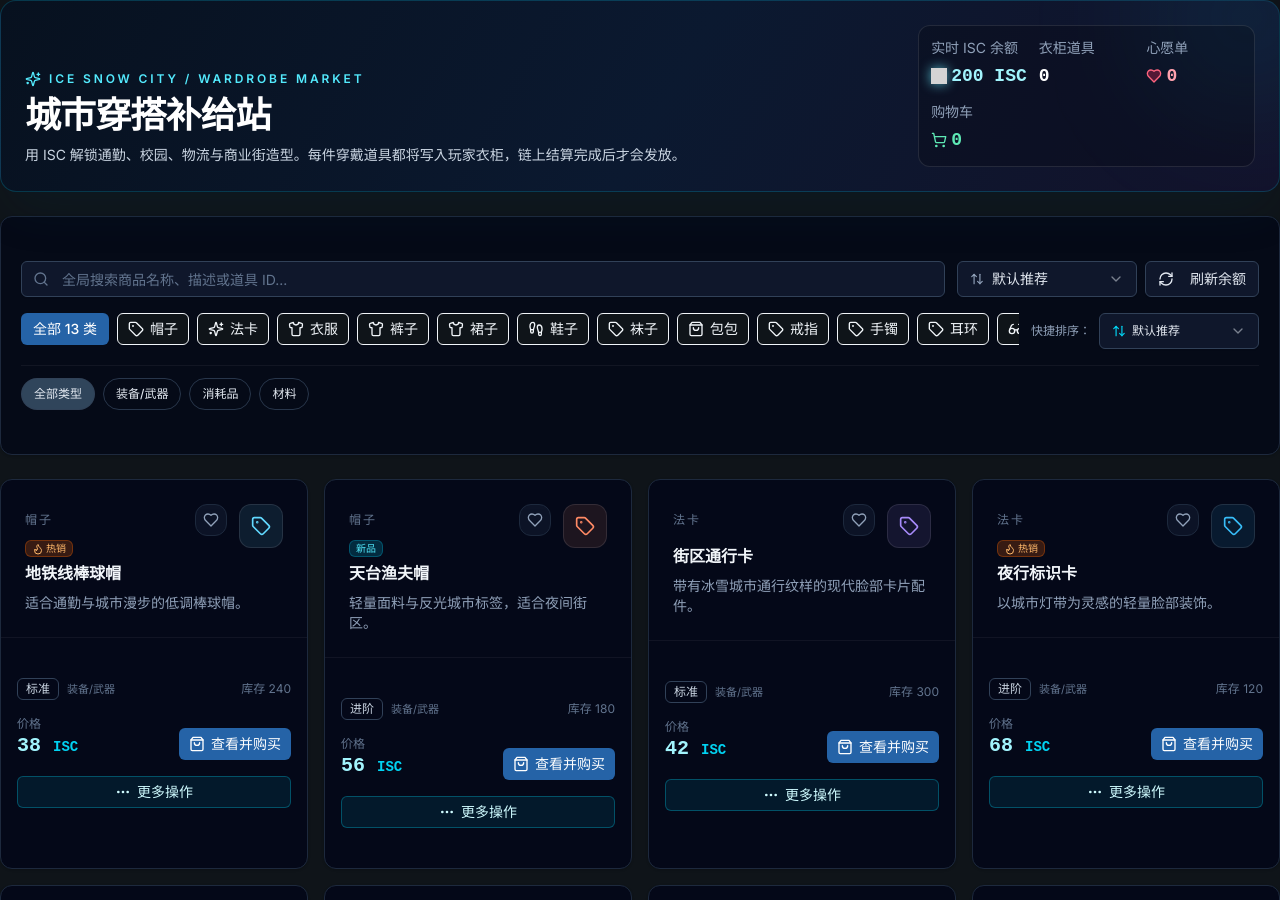
Test: GameItemShop › toggles wishlist favorite status with heart button and persists count
Expected: the text "心愿单" is shown, [1146,39,1188,56]
Click the button named "加入收藏：地铁线棒球帽": [211, 520] box [195,504,227,536]
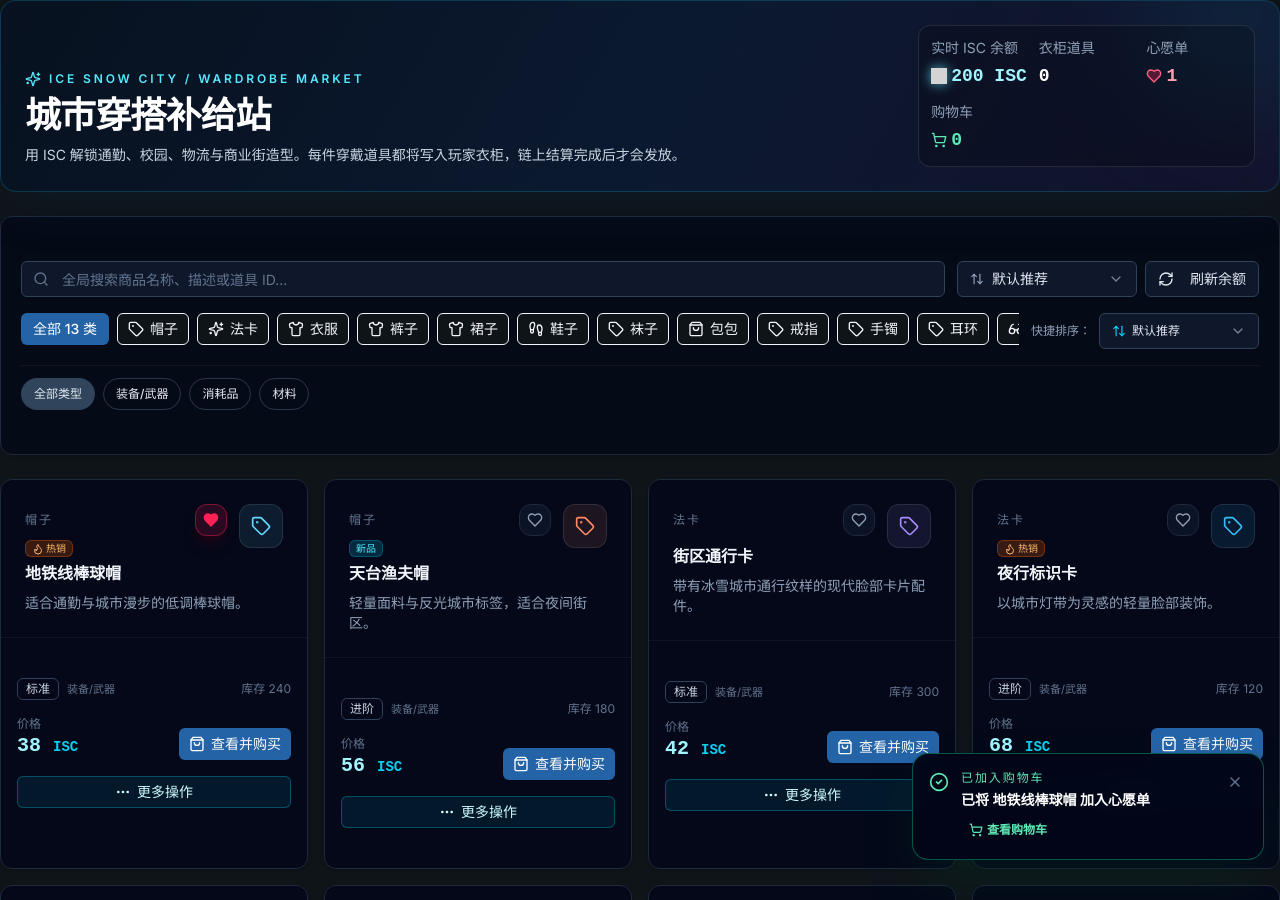
Now the text "已将 地铁线棒球帽 加入心愿单" is shown, box [961,791,1150,808]
Now the button named "取消收藏：地铁线棒球帽" is shown
Click the button named "取消收藏：地铁线棒球帽": [211, 520] box [195,504,227,536]
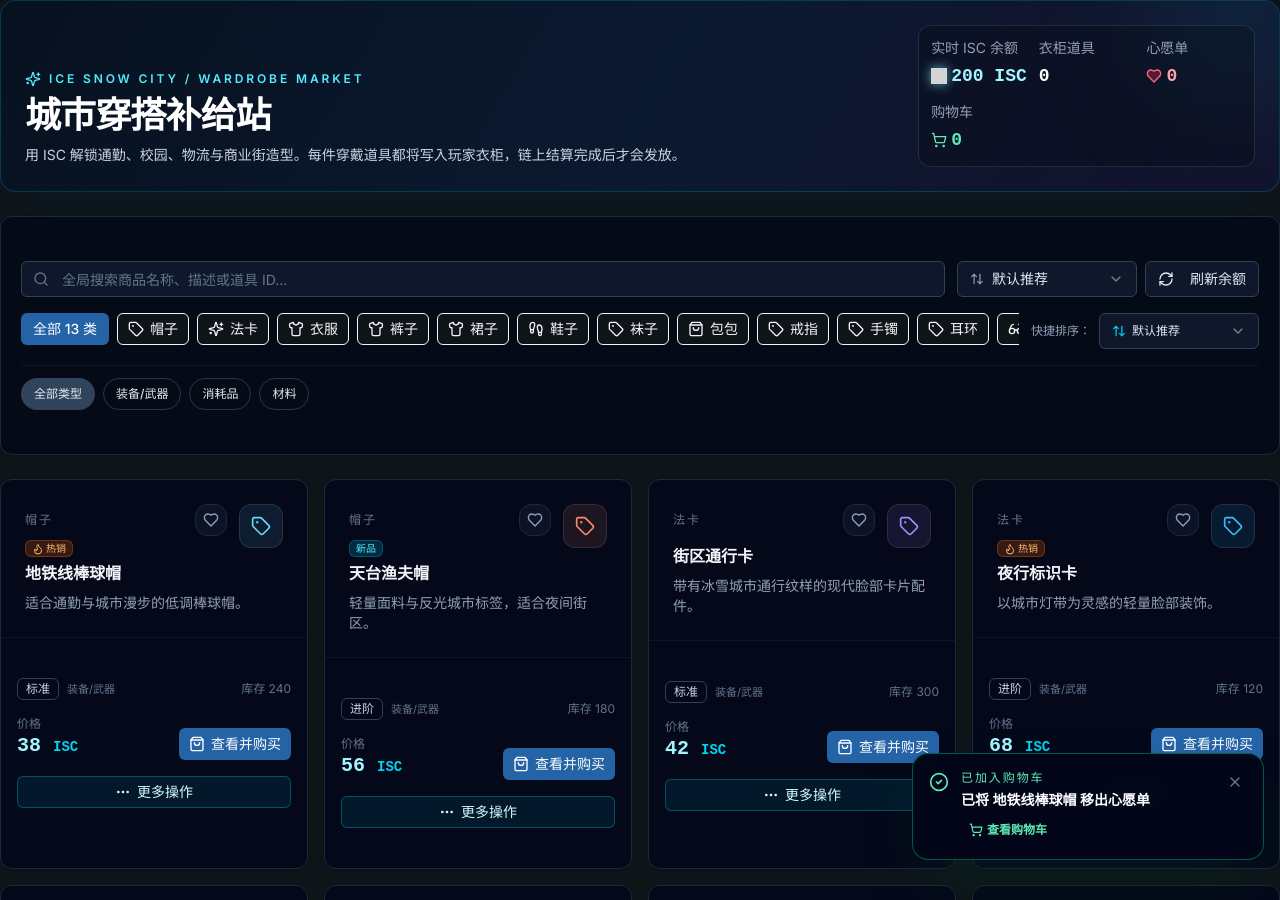
Now the text "已将 地铁线棒球帽 移出心愿单" is shown, box [961,791,1150,808]
Now the button named "加入收藏：地铁线棒球帽" is shown, box [195,504,227,536]
